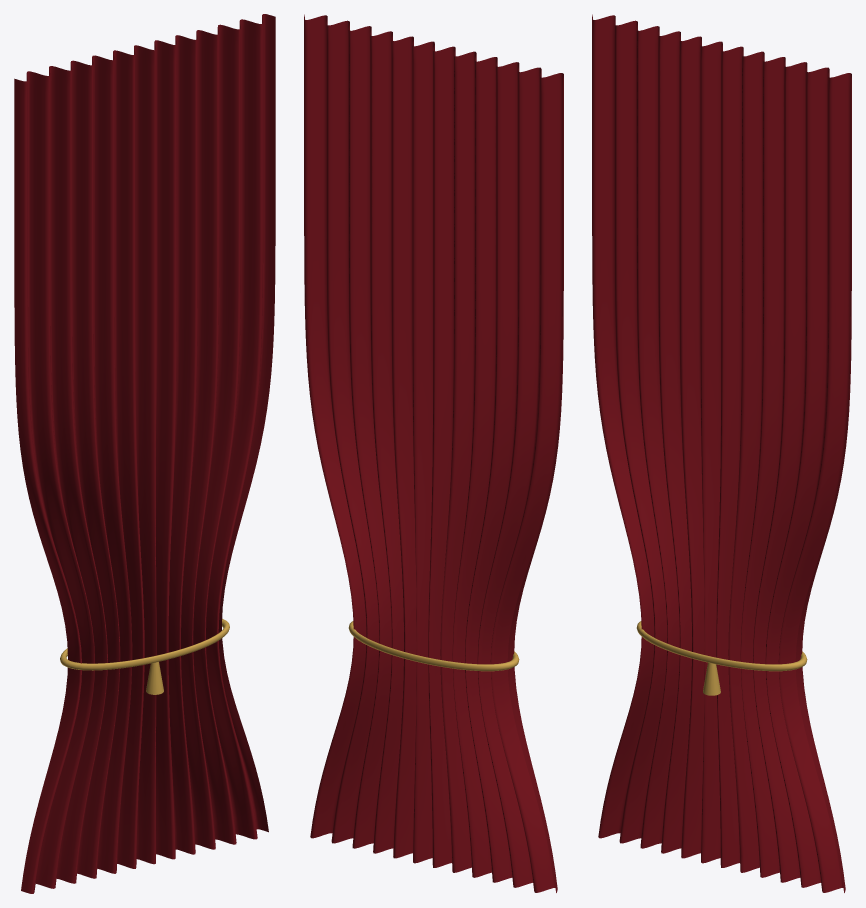
File: house_curtain.glb
The picture shows the model from 3 angles, left to right: view 1: azimuth 30°, elevation 25°; view 2: azimuth 150°, elevation 25°; view 3: azimuth 330°, elevation 25°; orthographic projection.
Bounding box in the file's own units: 1.8 × 5.4 × 0.4822.
